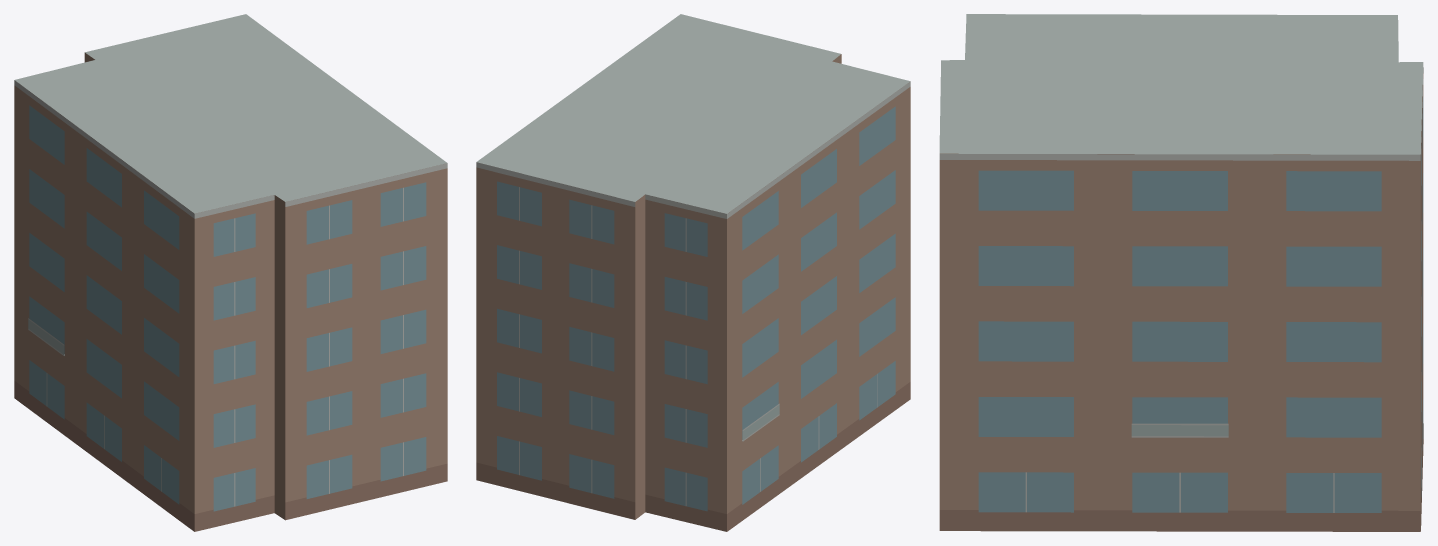
File: survey-upis-32941039.glb
The picture shows the model from 3 angles, left to right: view 1: azimuth 30°, elevation 25°; view 2: azimuth 150°, elevation 25°; view 3: azimuth 270°, elevation 25°; orthographic projection. The views are drawn at different scales.
Visible parts, largest first — view 1: survey-upis-32941039.tmp; view 2: survey-upis-32941039.tmp; view 3: survey-upis-32941039.tmp.
Boxes of the visible parts, x1,y1,x2,y2 form: survey-upis-32941039.tmp: (14,14,447,531); survey-upis-32941039.tmp: (476,14,910,531); survey-upis-32941039.tmp: (939,14,1423,531).
Bounding box in the file's own units: 11.93 × 14.9 × 17.34.
